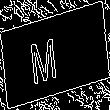M_N: (39, 26, 71, 84)
